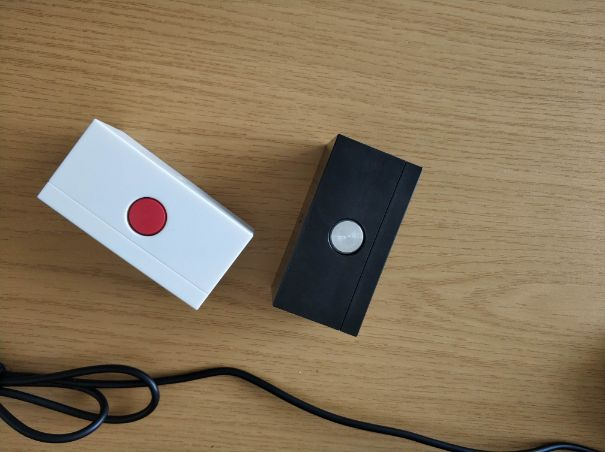black+black+silver: (270, 131, 425, 339)
white+white+red: (31, 116, 258, 316)
